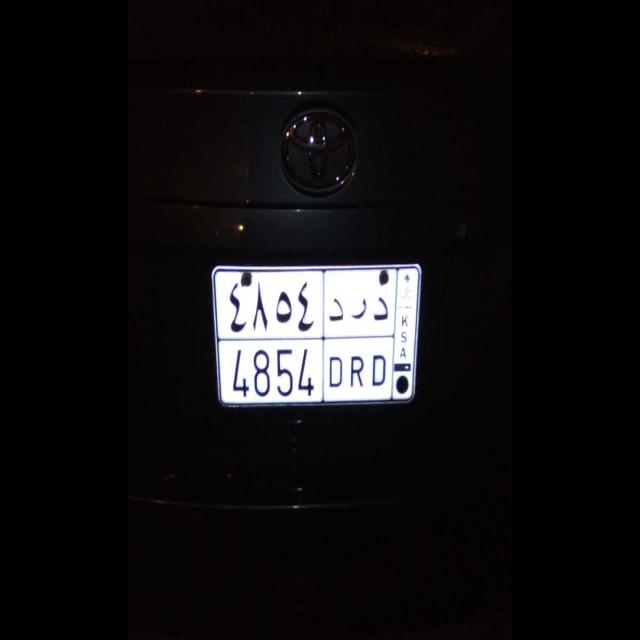license_plate: (215, 339, 392, 403)
